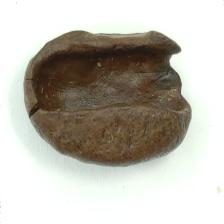NG: (21, 28, 193, 128)
